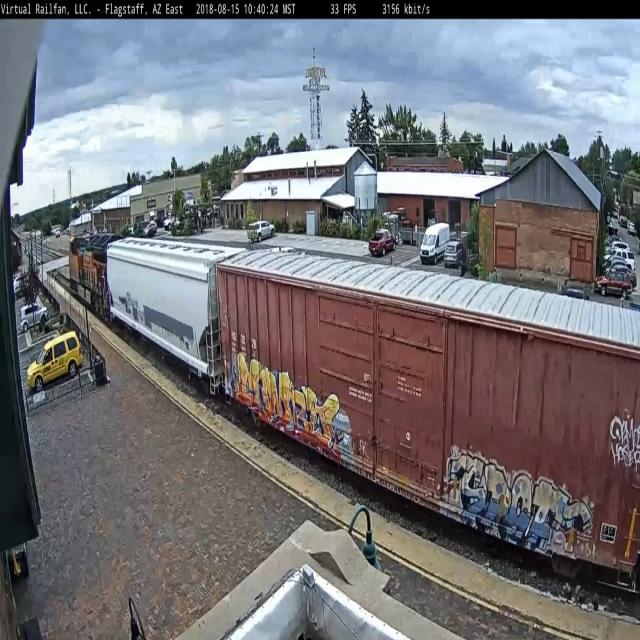boxcar: (212, 244, 640, 606)
hopper: (103, 232, 229, 386)
locomotive: (67, 230, 116, 320)
